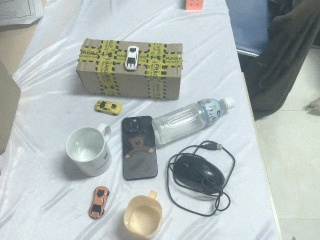bottle: (150, 96, 236, 148)
box: (76, 37, 185, 102), (1, 1, 45, 76), (1, 45, 21, 159)
cup: (63, 124, 112, 180), (121, 189, 164, 239)
mouse: (171, 150, 227, 198)
phone: (120, 116, 158, 181)
toy_car: (88, 185, 110, 221), (94, 99, 122, 116), (124, 46, 140, 71)
